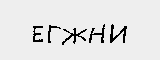Г: (47, 24, 62, 46)
Е: (31, 23, 45, 44)
Ж: (62, 22, 88, 47)
И: (110, 21, 129, 47)
Н: (90, 23, 106, 49)
